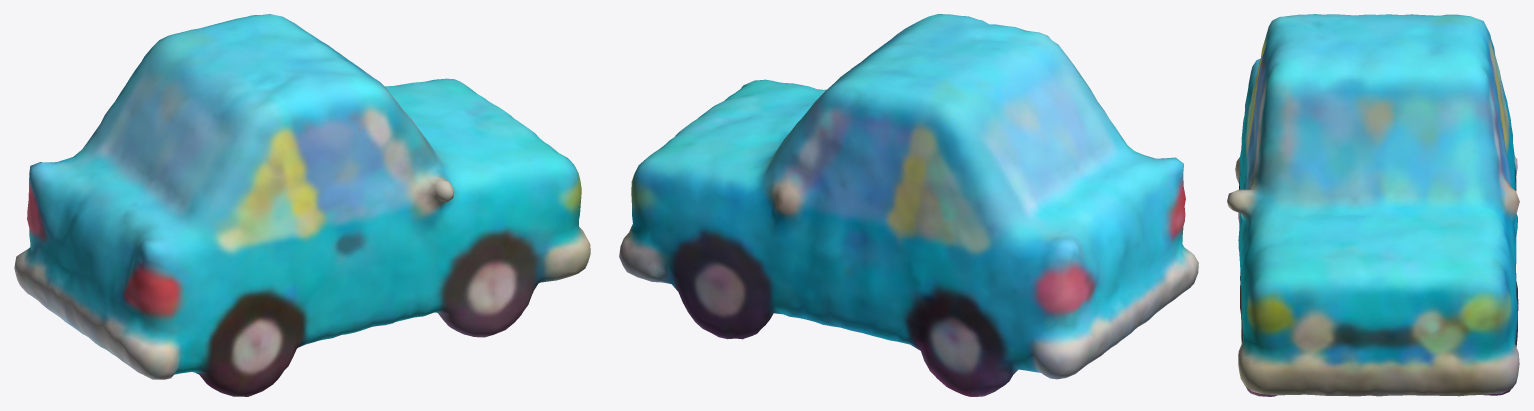
The model's file is bluecar.fbx.
3 views of the same model, side by side, from view 1: azimuth 30°, elevation 25°; view 2: azimuth 150°, elevation 25°; view 3: azimuth 270°, elevation 25° (orthographic).
Parts seen in each view (by area): view 1: Mesh1; view 2: Mesh1; view 3: Mesh1.
Boxes of the visible parts, <box> form: Mesh1: <box>14,14,590,396</box>; Mesh1: <box>619,14,1198,396</box>; Mesh1: <box>1227,14,1519,396</box>.
Size of the model in its own units: 120 by 68.31 by 65.37.
1 material, 1 textured.
